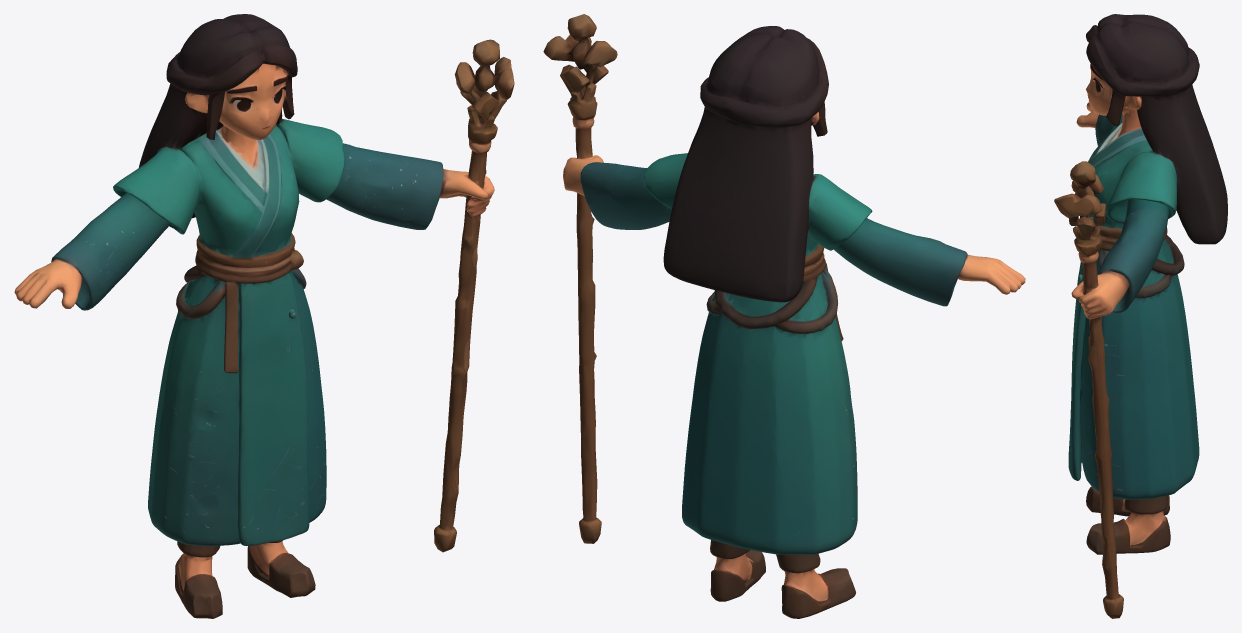
The model's file is comp_ayse.glb.
3 views of the same model, side by side, from view 1: azimuth 30°, elevation 25°; view 2: azimuth 150°, elevation 25°; view 3: azimuth 270°, elevation 25° (orthographic). The views are drawn at different scales.
Visible parts, largest first — view 1: tripo_node_b8a58c7c-e52f-440b-8f1c-4de3c8ca5f24; view 2: tripo_node_b8a58c7c-e52f-440b-8f1c-4de3c8ca5f24; view 3: tripo_node_b8a58c7c-e52f-440b-8f1c-4de3c8ca5f24.
Part boxes in pixels (<box>): tripo_node_b8a58c7c-e52f-440b-8f1c-4de3c8ca5f24: <box>14,14,514,618</box>; tripo_node_b8a58c7c-e52f-440b-8f1c-4de3c8ca5f24: <box>543,14,1025,618</box>; tripo_node_b8a58c7c-e52f-440b-8f1c-4de3c8ca5f24: <box>1054,14,1227,618</box>.
Size of the model in its own units: 0.8992 by 1 by 0.308.
1 material, 1 textured.
